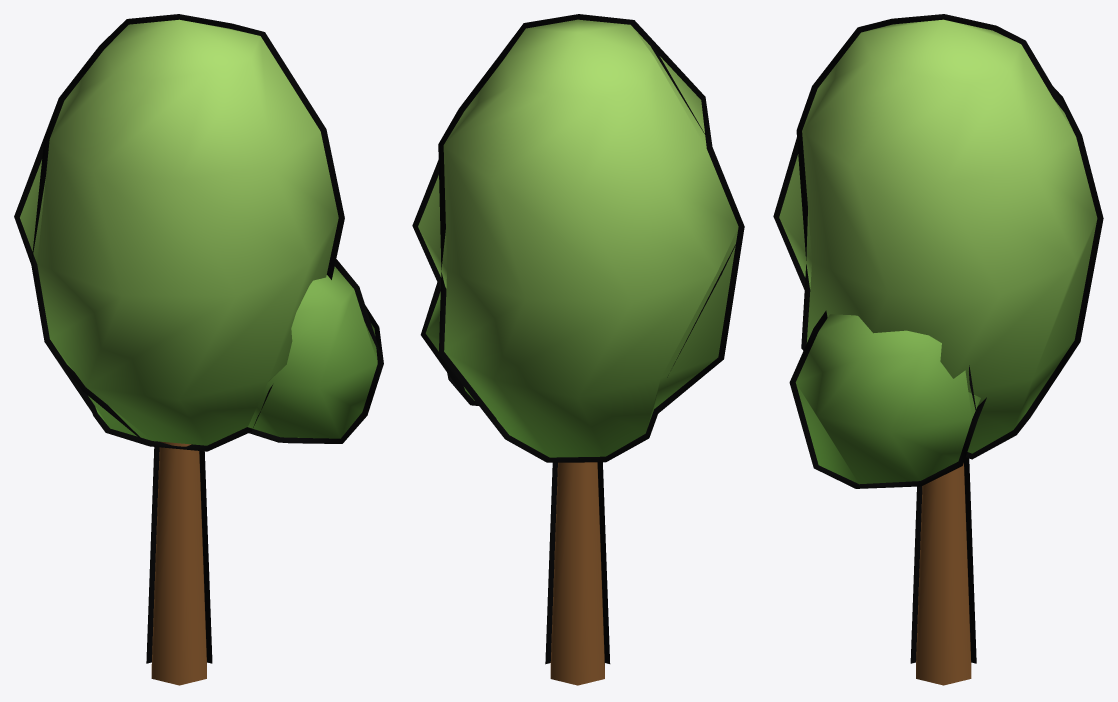
File: BR_Baum_B.glb
3 views of the same model, side by side, from view 1: azimuth 30°, elevation 25°; view 2: azimuth 150°, elevation 25°; view 3: azimuth 270°, elevation 25° (orthographic).
Visible parts, largest first — view 1: BR_Baum_B_Mesh, BR_Baum_B_Outline; view 2: BR_Baum_B_Mesh, BR_Baum_B_Outline; view 3: BR_Baum_B_Mesh, BR_Baum_B_Outline.
Boxes of the visible parts, x1,y1,x2,y2 form: BR_Baum_B_Mesh: [20, 19, 377, 685]; BR_Baum_B_Outline: [14, 14, 383, 663]; BR_Baum_B_Mesh: [418, 19, 738, 685]; BR_Baum_B_Outline: [412, 14, 744, 664]; BR_Baum_B_Mesh: [779, 19, 1097, 685]; BR_Baum_B_Outline: [773, 14, 1103, 663].
Size of the model in its own units: 2.09 by 4.09 by 1.86.
